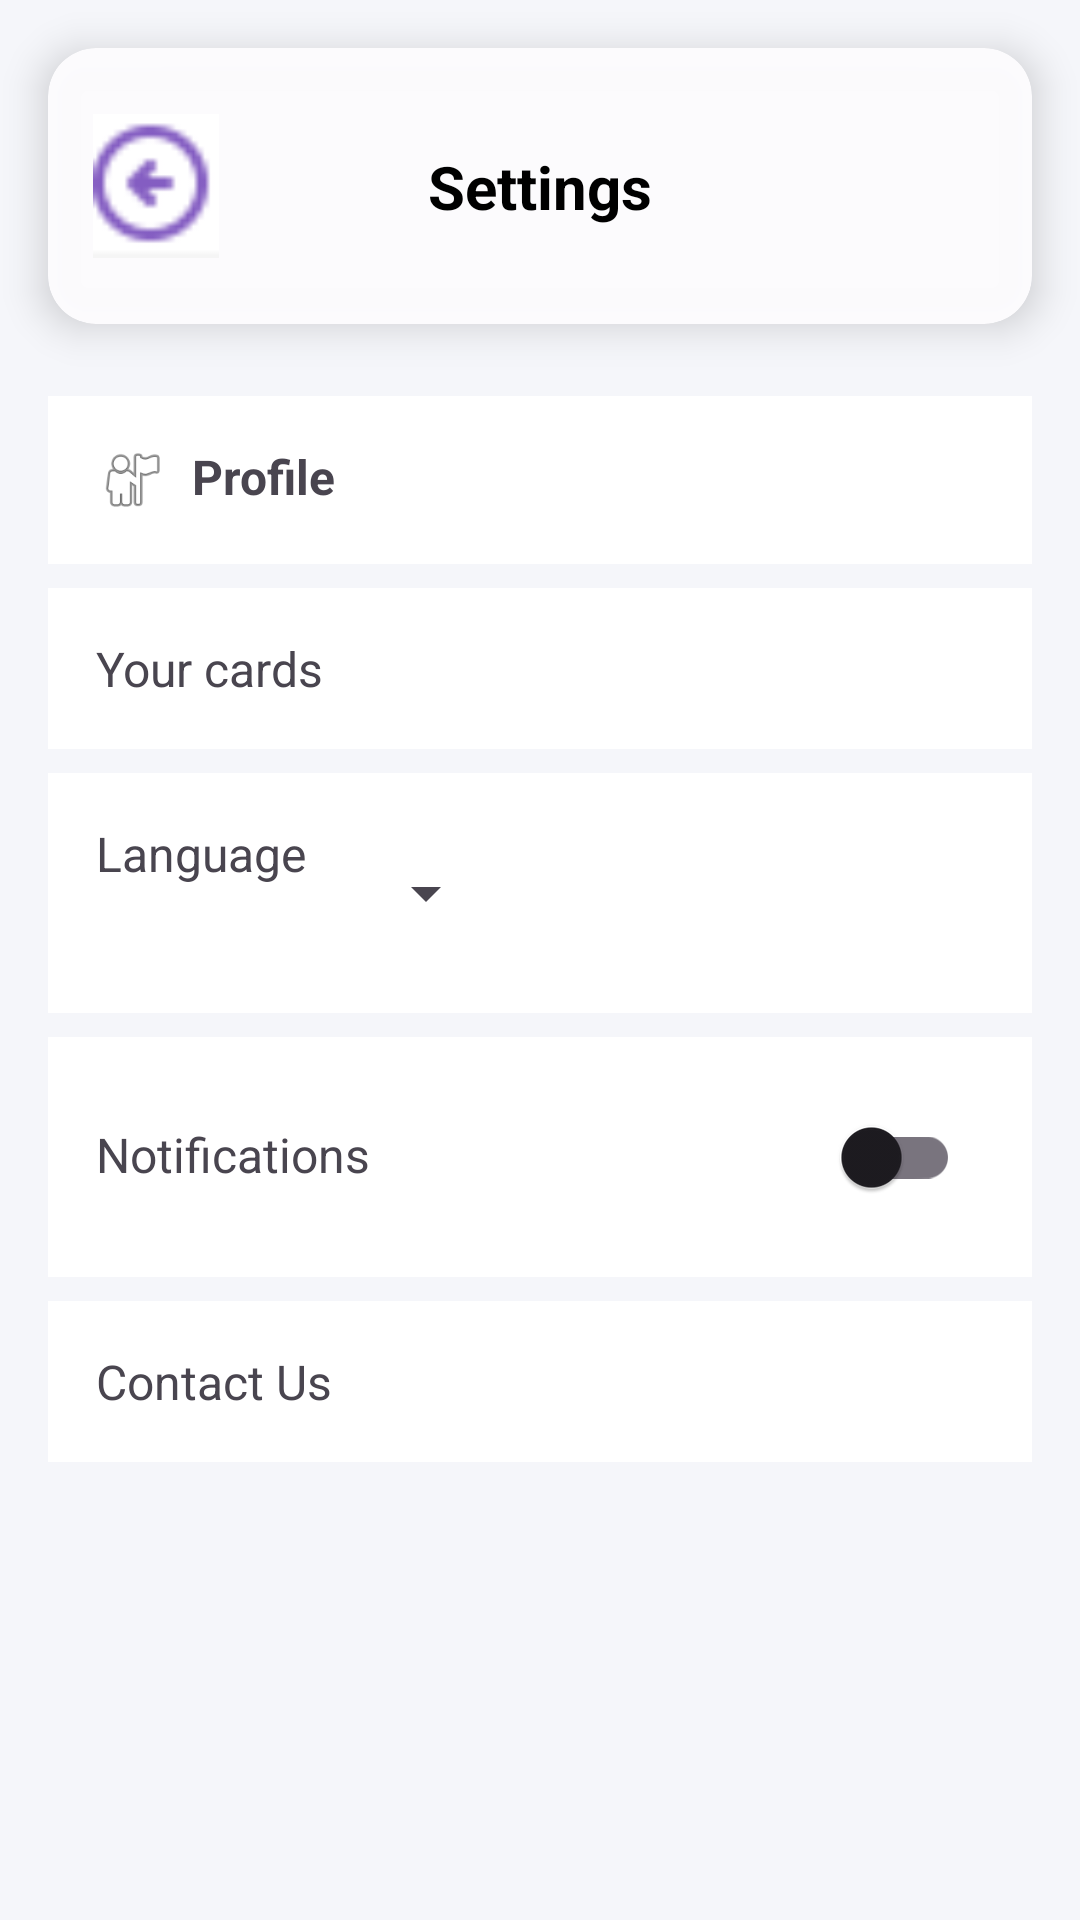

Named icons in this screenshot (1080w x 1920h) and their centers, (x=x, y=y):
Back: (x=151, y=183)
